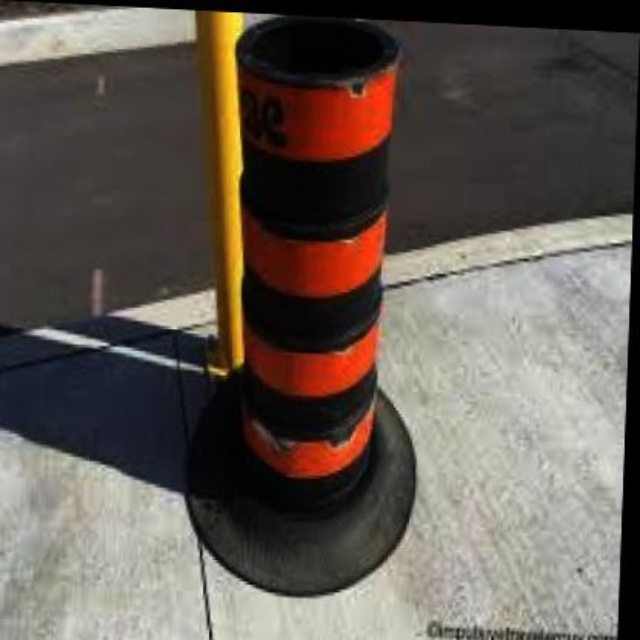obstacle: (217, 19, 417, 518)
